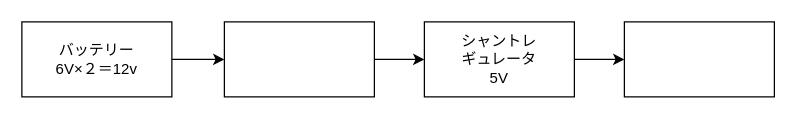
Image size: 796x119. Some labels were removed from this diagram. The shapes that lost their labels are listed below. From the top down, each one's centre as x and y in pixels, then its label:
At [298,59]: "電源SW".
At [698,59]: "電圧コンパレータ ＋FET -5V".
